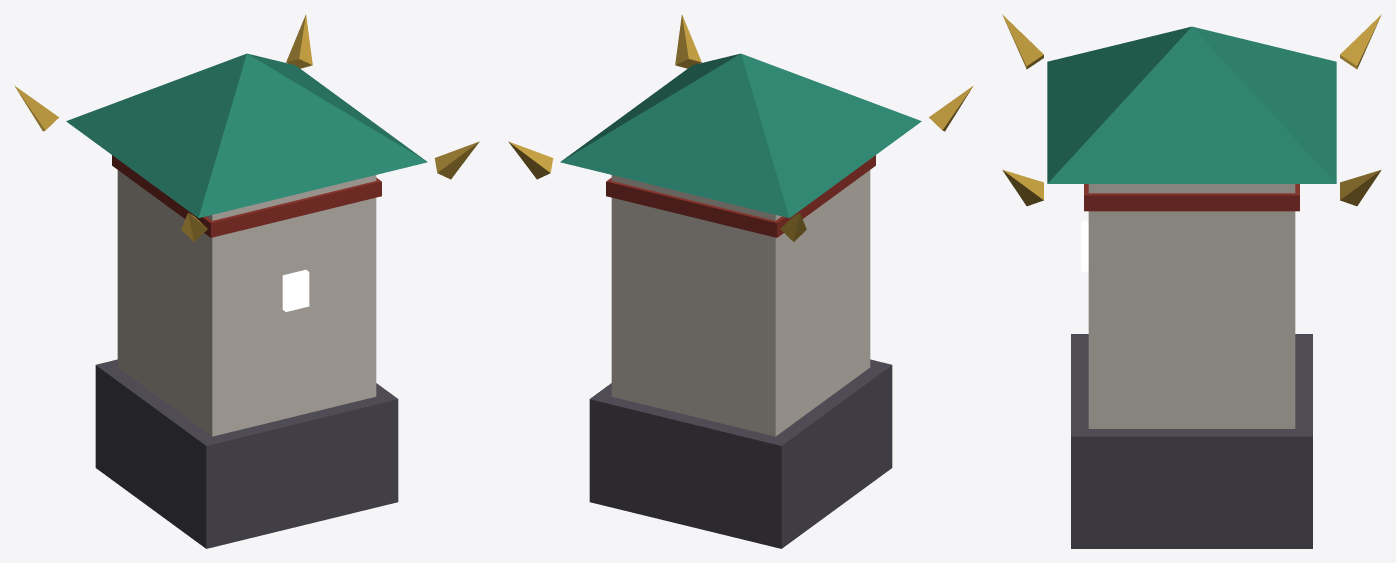
Rendered from wall_t2_post.glb.
The picture shows the model from 3 angles, left to right: view 1: azimuth 30°, elevation 25°; view 2: azimuth 150°, elevation 25°; view 3: azimuth 270°, elevation 25°; orthographic projection. The views are drawn at different scales.
Visible parts, largest first — view 1: body, glow; view 2: body; view 3: body.
Part boxes in pixels (box(x1,y1,x2,y2)): body: box(14, 14, 479, 548); glow: box(282, 269, 309, 311); body: box(508, 14, 973, 548); body: box(1002, 14, 1381, 548).
Size of the model in its own units: 1.25 by 1.76 by 1.29.
